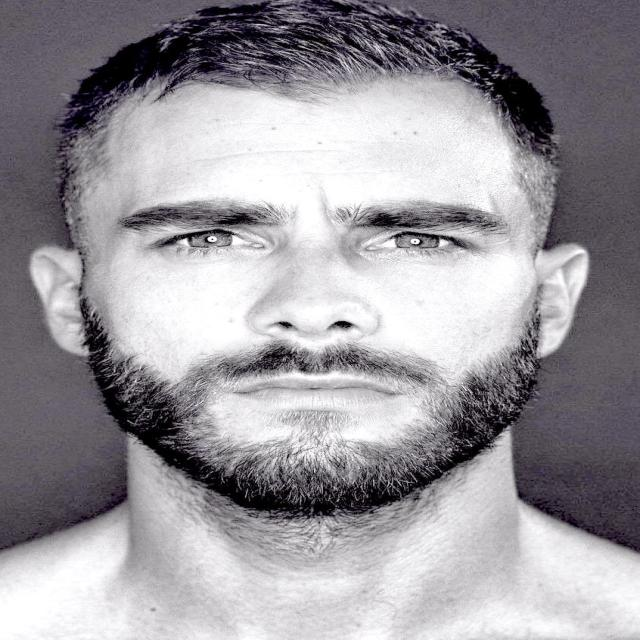front: (96, 148, 544, 468)
